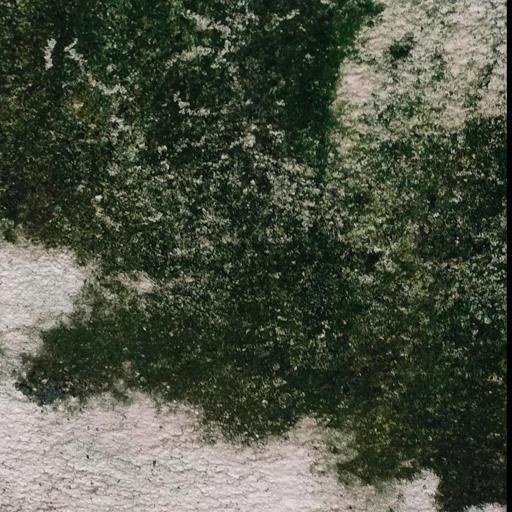algae: (2, 4, 512, 497)
